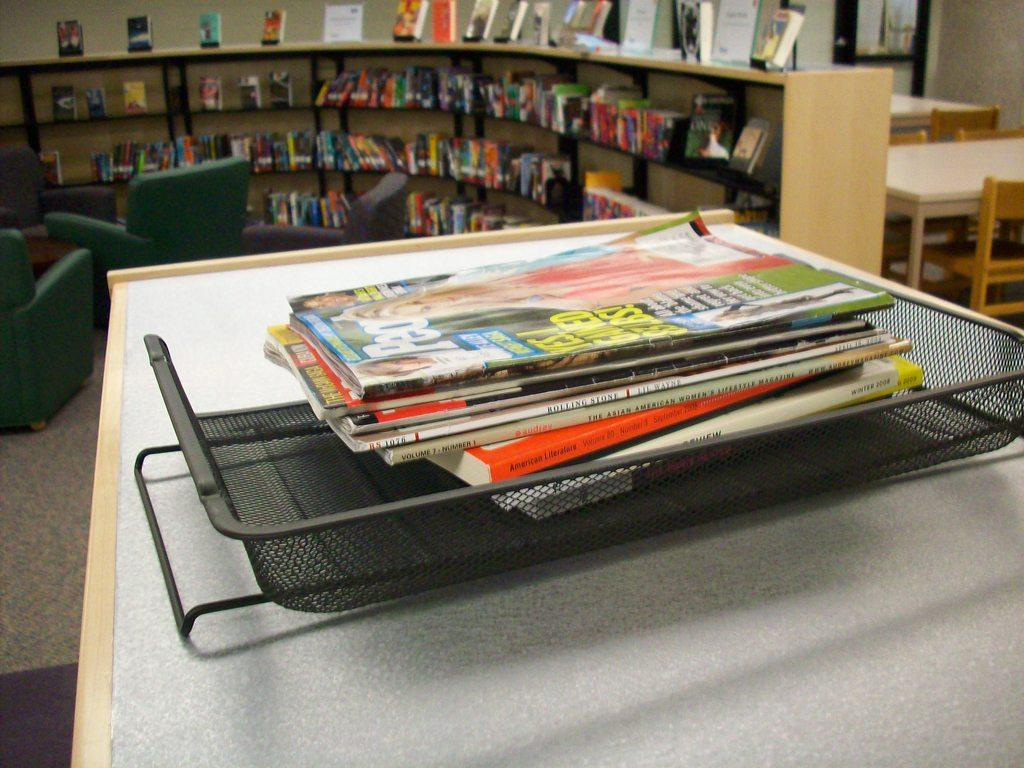Luggage-and-bags: (134, 212, 1021, 638)
